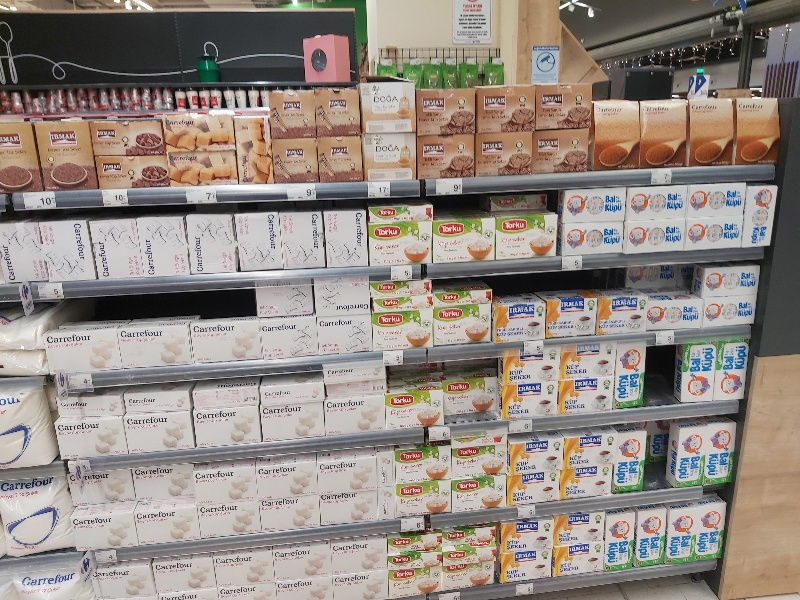urun1: (589, 89, 643, 173), (37, 214, 92, 287), (117, 314, 194, 366), (181, 209, 238, 277), (186, 314, 262, 361), (474, 78, 537, 134), (427, 215, 497, 265), (230, 208, 281, 274), (274, 205, 325, 271), (320, 203, 371, 269), (120, 405, 194, 450), (191, 399, 265, 444), (258, 396, 330, 441), (161, 111, 243, 150), (92, 149, 178, 186), (91, 214, 144, 274), (532, 79, 597, 127), (63, 506, 143, 544), (490, 294, 551, 342), (495, 342, 568, 381), (540, 293, 607, 335), (252, 491, 326, 529), (312, 488, 384, 527), (130, 461, 195, 504), (371, 303, 437, 345), (264, 86, 320, 135), (309, 88, 366, 133), (554, 338, 619, 377), (613, 339, 648, 409), (192, 501, 266, 534), (704, 413, 737, 487), (506, 436, 569, 474), (502, 469, 565, 507), (719, 340, 751, 409), (640, 295, 701, 331), (597, 287, 649, 329), (615, 427, 647, 493), (635, 502, 667, 568), (666, 502, 698, 568), (694, 265, 760, 296), (556, 379, 618, 412), (619, 215, 692, 243), (683, 182, 751, 212), (681, 214, 749, 244), (497, 518, 561, 549), (551, 540, 607, 572), (492, 296, 539, 332), (388, 564, 445, 593), (442, 558, 499, 587)
urun2: (33, 112, 95, 189), (637, 91, 691, 175), (684, 85, 738, 169), (729, 77, 783, 161), (136, 210, 192, 282), (251, 453, 330, 500), (127, 501, 203, 549), (46, 321, 120, 370), (414, 79, 478, 134), (364, 216, 434, 266), (491, 213, 561, 263), (52, 411, 126, 456), (359, 79, 419, 134), (255, 310, 320, 360), (85, 112, 167, 151), (183, 458, 261, 499), (472, 128, 537, 176), (533, 127, 598, 175), (315, 306, 376, 357), (231, 109, 271, 184), (160, 147, 244, 182), (415, 133, 476, 180), (64, 462, 137, 501), (499, 377, 566, 419), (312, 452, 384, 491), (676, 339, 716, 409), (384, 385, 450, 427), (430, 301, 496, 343), (322, 390, 391, 430), (267, 134, 323, 183), (360, 135, 419, 181), (558, 185, 632, 221), (557, 217, 631, 253), (324, 536, 390, 575), (268, 541, 334, 580), (212, 541, 278, 580), (145, 548, 211, 587), (391, 445, 456, 483), (391, 476, 456, 514), (670, 416, 703, 490), (561, 427, 624, 465), (313, 134, 366, 178), (620, 185, 695, 216), (446, 446, 511, 480), (605, 504, 637, 570), (694, 495, 726, 561), (696, 296, 762, 327), (553, 511, 609, 543), (447, 480, 508, 509), (495, 549, 560, 576), (558, 464, 616, 493)
